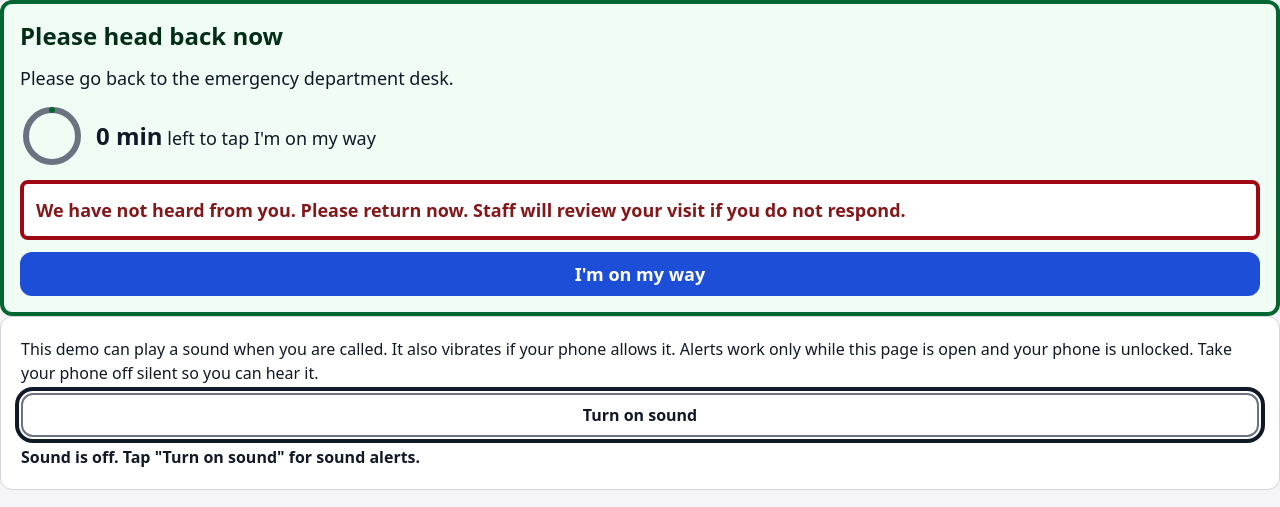
it: PatientStatus with the sound box › moves focus to the heading when staff mark the visit arrived while focus is on Sound is on
This screenshot has width=1280, height=507.
Click the button "Turn on sound" at [640, 415], box [21, 393, 1259, 437]
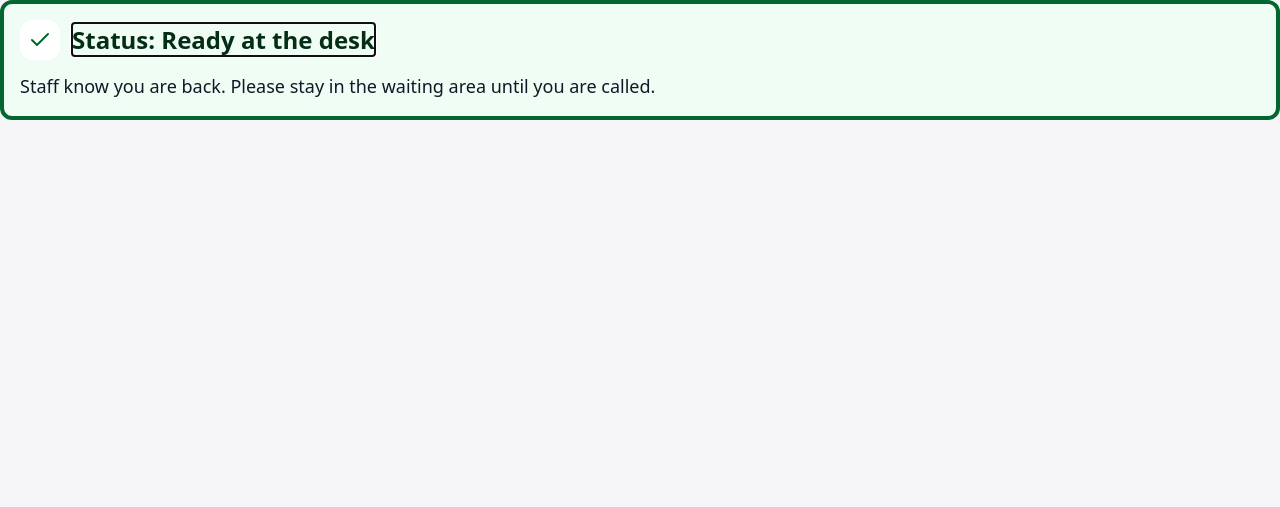
Check: the heading with id "status-heading" reads "Status: Ready at the desk", box [72, 23, 375, 56]
